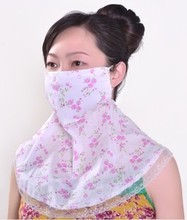face_mask: (44, 26, 109, 127)
